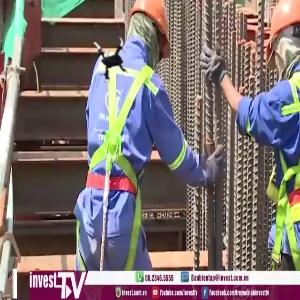drone: (85, 35, 139, 89)
